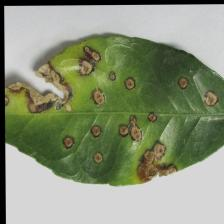canker: (10, 43, 173, 174)
